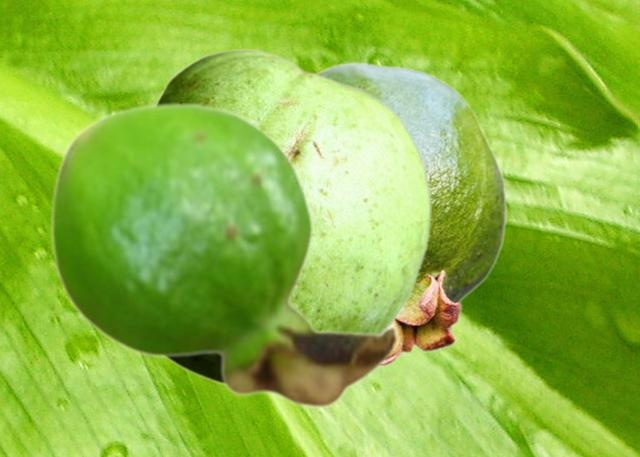guava: (49, 101, 399, 409), (155, 49, 430, 388), (316, 62, 506, 366)
